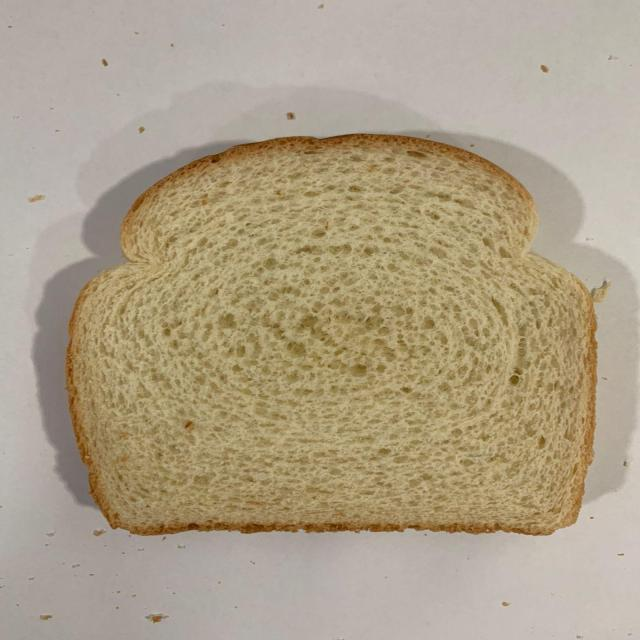pan: (67, 133, 597, 535)
